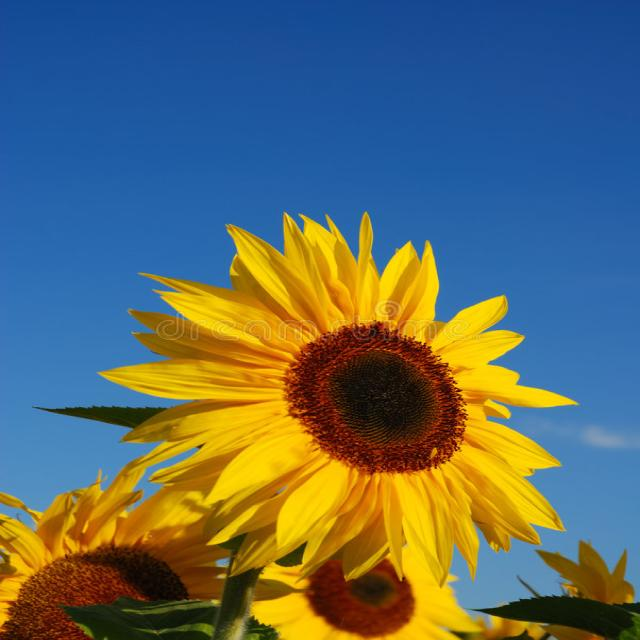sunflower: (104, 189, 598, 595)
